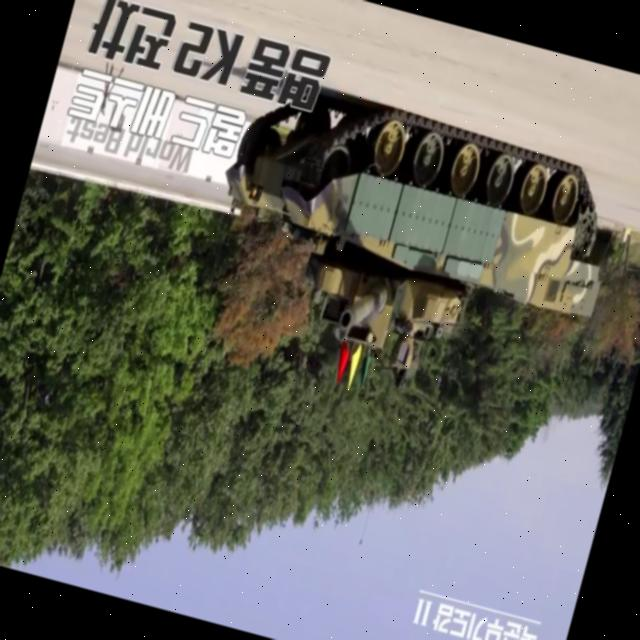korea tank: (181, 66, 634, 430)
